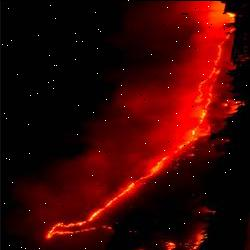fire: (150, 0, 250, 174), (23, 181, 148, 250)
